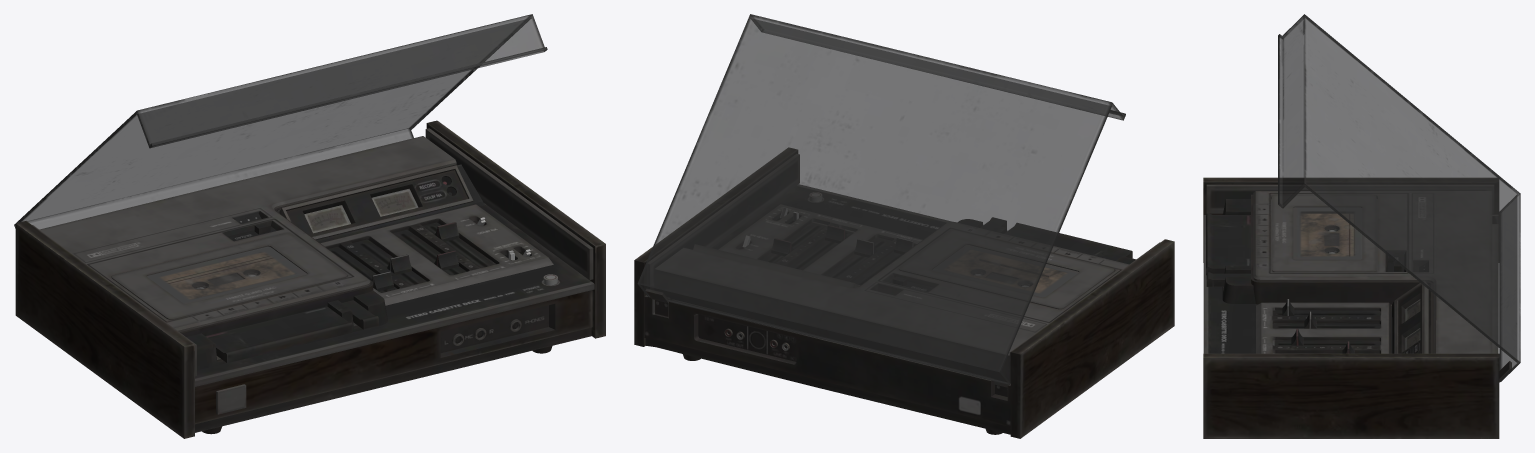
The model's file is prop_cassette_deck.glb.
The picture shows the model from 3 angles, left to right: view 1: azimuth 30°, elevation 25°; view 2: azimuth 150°, elevation 25°; view 3: azimuth 270°, elevation 25°; orthographic projection. The views are drawn at different scales.
Visible parts, largest first — view 1: CassetteDeckLid_low, CassetteDeckBase_low, CassetteDeckFrame_low, CassetteDecksides_low, CassetteDecksides_low.001, Dials_low, glass, CassetteLid_low, Screens_low, Cassette_low, CassetteDeckDialsPorts_low, Logo_low; view 2: CassetteDeckLid_low, CassetteDeckBase_low, CassetteDeckFrame_low, CassetteDecksides_low, CassetteDecksides_low.001, CassetteLid_low, glass, Dials_low, Cassette_low, Screens_low; view 3: CassetteDeckLid_low, CassetteDecksides_low.001, CassetteDeckFrame_low, CassetteDeckBase_low, CassetteDecksides_low, CassetteLid_low, glass, Dials_low, Cassette_low, Screens_low, CassetteDeckDialsPorts_low.
Part boxes in pixels (left/top/right/bottom): CassetteDeckLid_low: left=14, top=14, right=547, bottom=229; CassetteDeckBase_low: left=195, top=203, right=594, bottom=432; CassetteDeckFrame_low: left=39, top=136, right=457, bottom=336; CassetteDecksides_low: left=15, top=221, right=196, bottom=438; CassetteDecksides_low.001: left=202, top=120, right=605, bottom=434; Dials_low: left=205, top=217, right=557, bottom=363; glass: left=147, top=188, right=418, bottom=303; CassetteLid_low: left=112, top=233, right=347, bottom=319; Screens_low: left=279, top=165, right=473, bottom=239; Cassette_low: left=160, top=252, right=294, bottom=299; CassetteDeckDialsPorts_low: left=186, top=164, right=484, bottom=370; Logo_low: left=216, top=384, right=246, bottom=414; CassetteDeckLid_low: left=637, top=14, right=1125, bottom=384; CassetteDeckBase_low: left=644, top=184, right=1010, bottom=434; CassetteDeckFrame_low: left=654, top=222, right=1129, bottom=387; CassetteDecksides_low: left=1009, top=239, right=1174, bottom=438; CassetteDecksides_low.001: left=634, top=147, right=1002, bottom=434; CassetteLid_low: left=899, top=230, right=1114, bottom=309; glass: left=933, top=245, right=1078, bottom=297; Dials_low: left=743, top=192, right=1132, bottom=285; Cassette_low: left=947, top=250, right=1066, bottom=292; Screens_low: left=693, top=244, right=858, bottom=287; CassetteDeckLid_low: left=1278, top=14, right=1520, bottom=381; CassetteDecksides_low.001: left=1203, top=353, right=1499, bottom=438; CassetteDeckFrame_low: left=1251, top=191, right=1492, bottom=353; CassetteDeckBase_low: left=1203, top=215, right=1498, bottom=353; CassetteDecksides_low: left=1203, top=177, right=1498, bottom=262; CassetteLid_low: left=1272, top=195, right=1376, bottom=271; glass: left=1293, top=207, right=1420, bottom=349; Dials_low: left=1206, top=213, right=1401, bottom=353; Cassette_low: left=1300, top=213, right=1354, bottom=256; Screens_low: left=1394, top=280, right=1428, bottom=353; CassetteDeckDialsPorts_low: left=1222, top=199, right=1431, bottom=353.
Size of the model in its own units: 188 by 127 by 140.
Materials: 1 (1 with a texture image).
